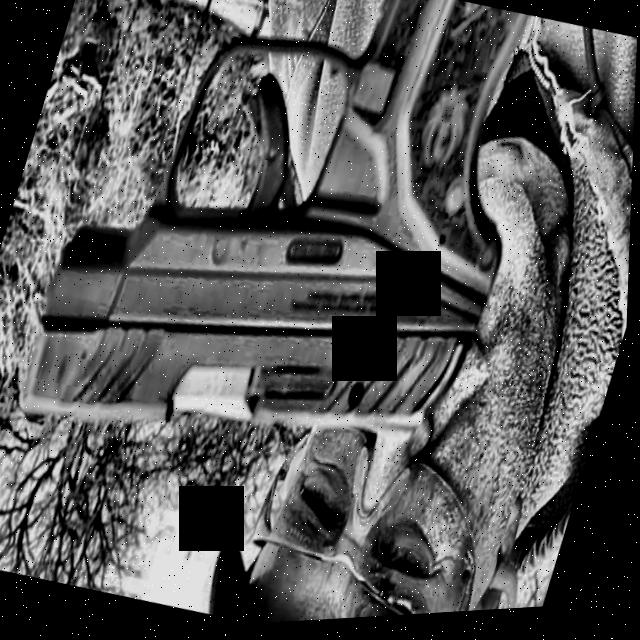Ruger: (7, 0, 575, 532)
